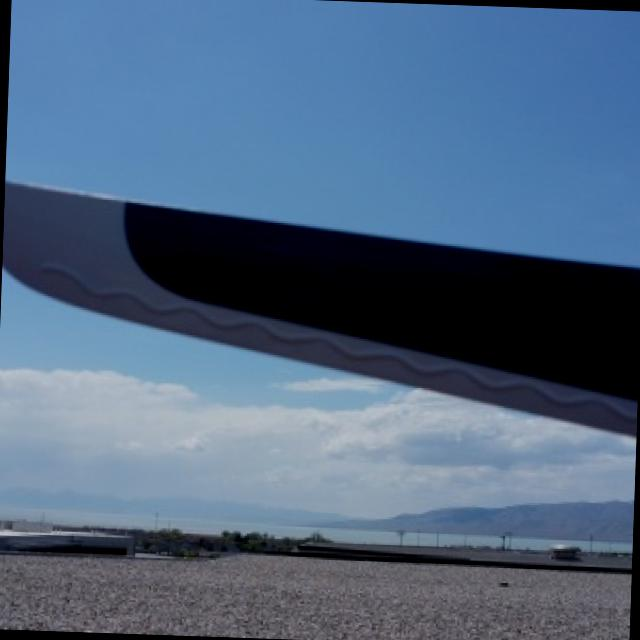healthy: (2, 181, 640, 433)
